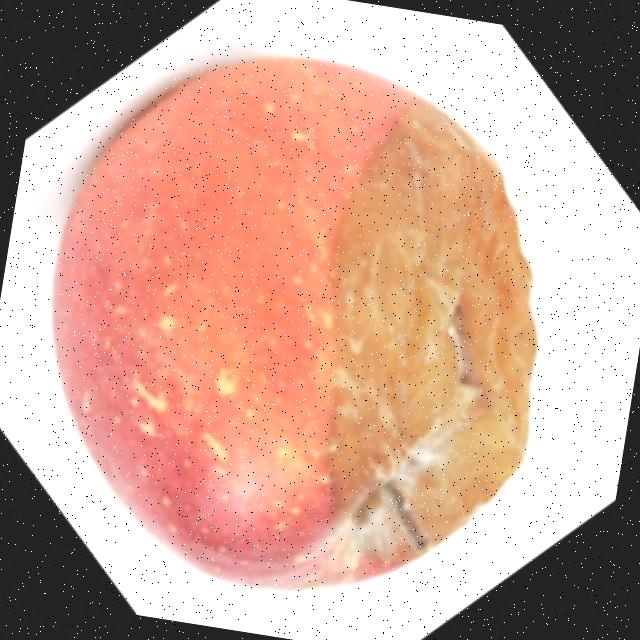Rotten: (3, 17, 592, 636)
